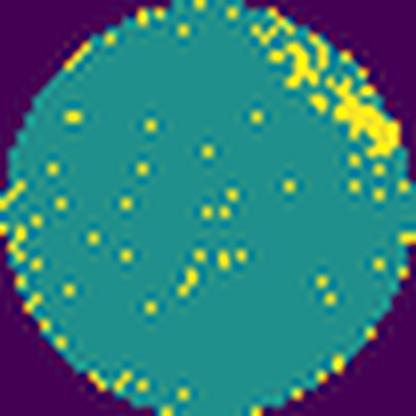Loc: (327, 78, 403, 158), (270, 42, 321, 89)
